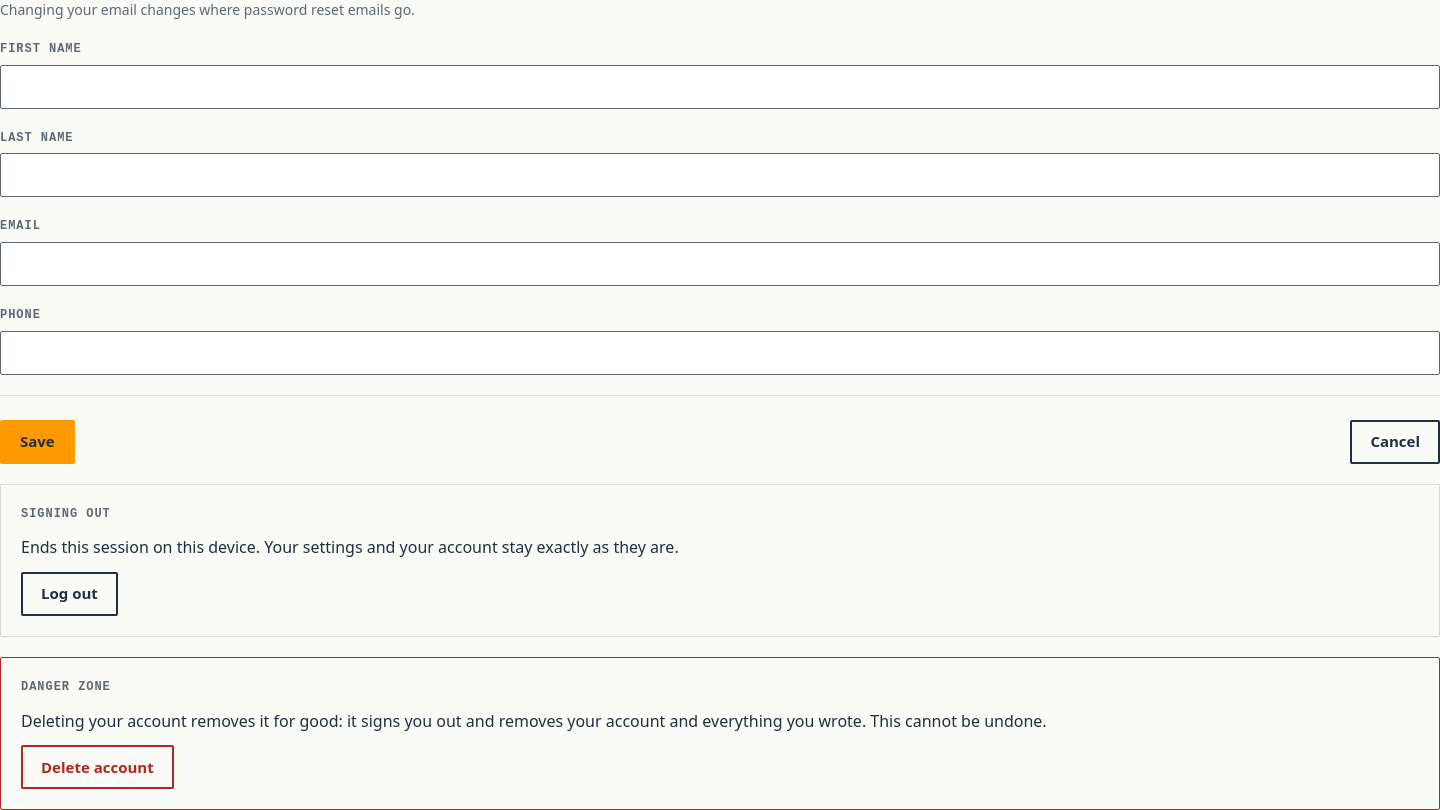
Scenario: Deleting the account › closes on Escape without doing anything
(page scrolled)
Click the button "Delete account" at coordinates (97, 767), box [21,745,174,789]
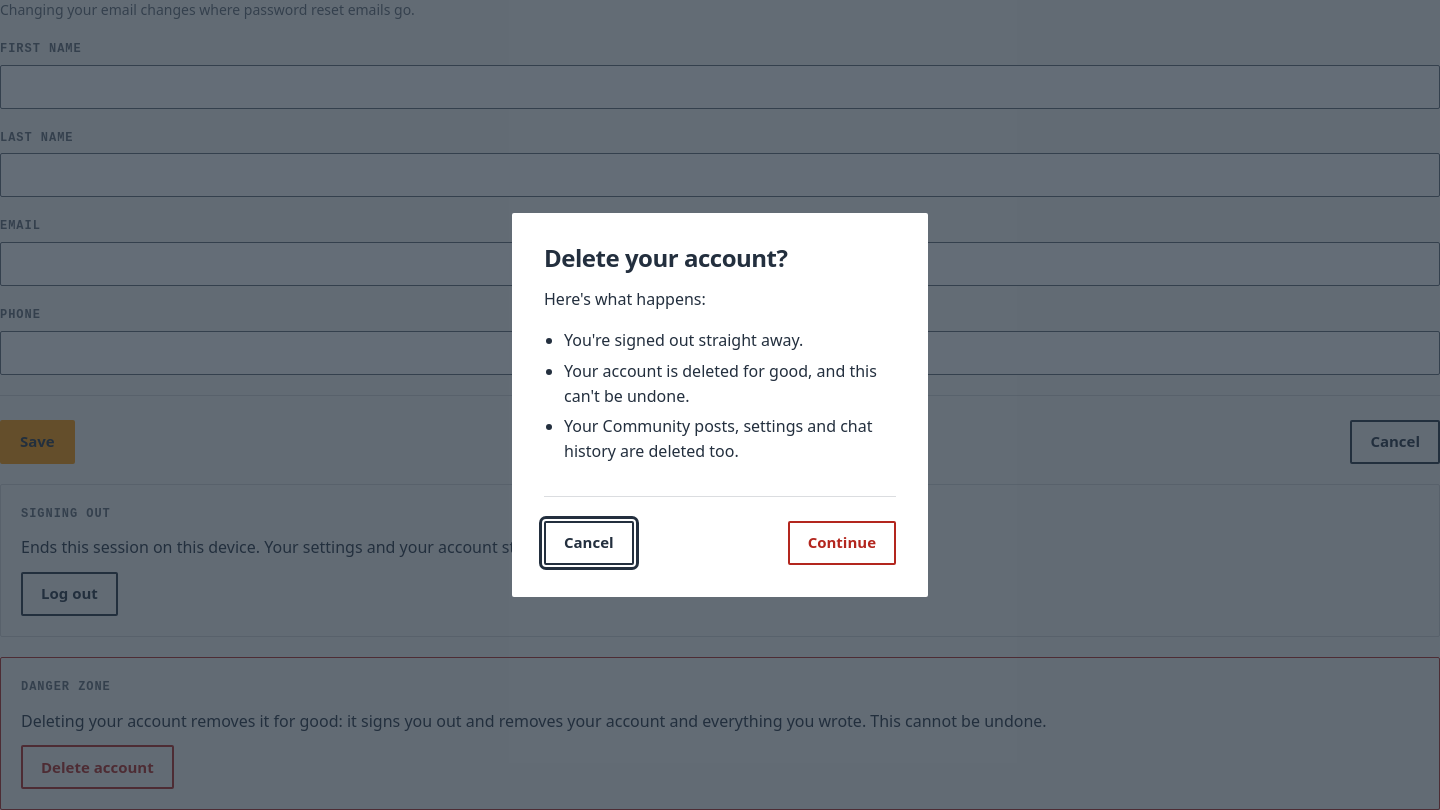
Press Escape
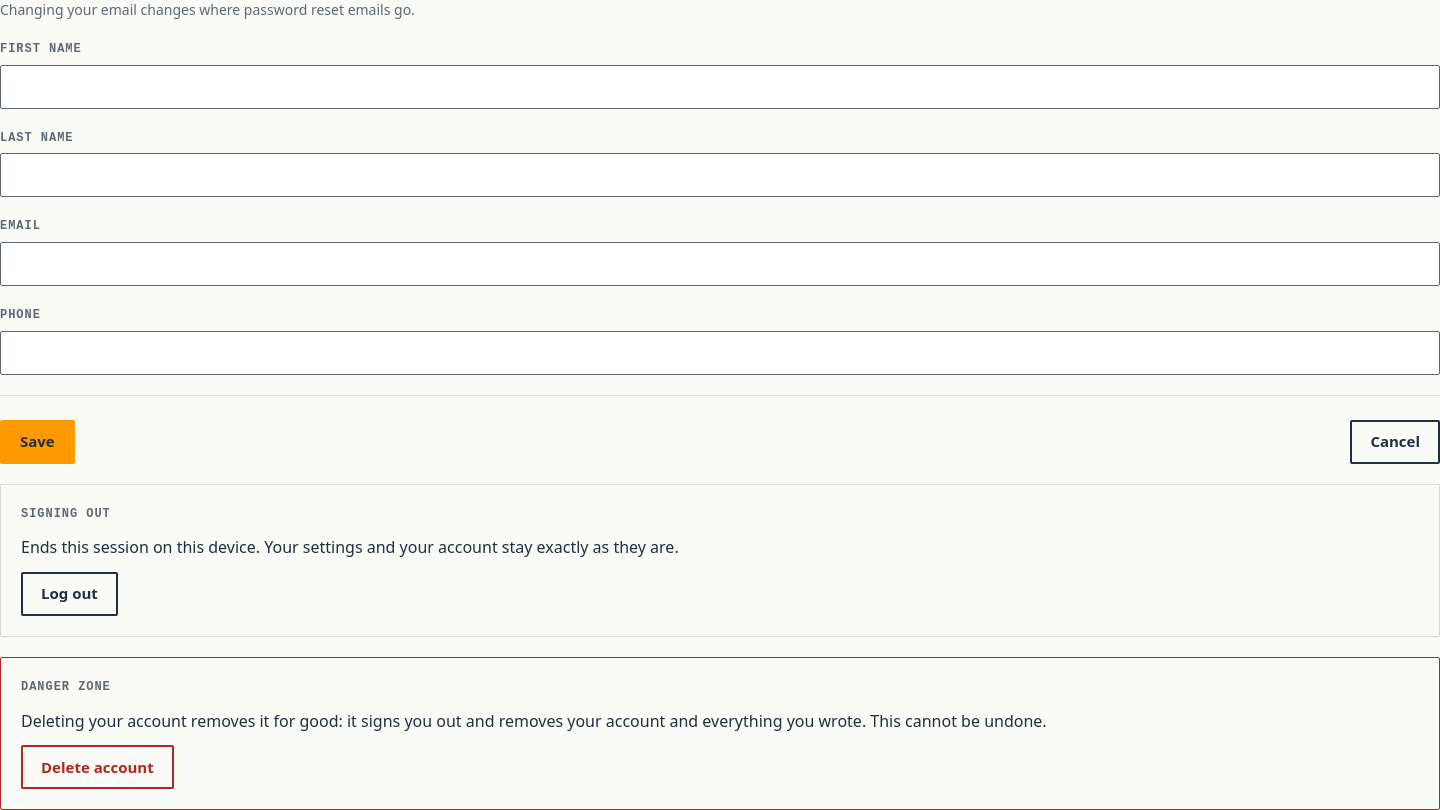
Result: the dialog is gone
